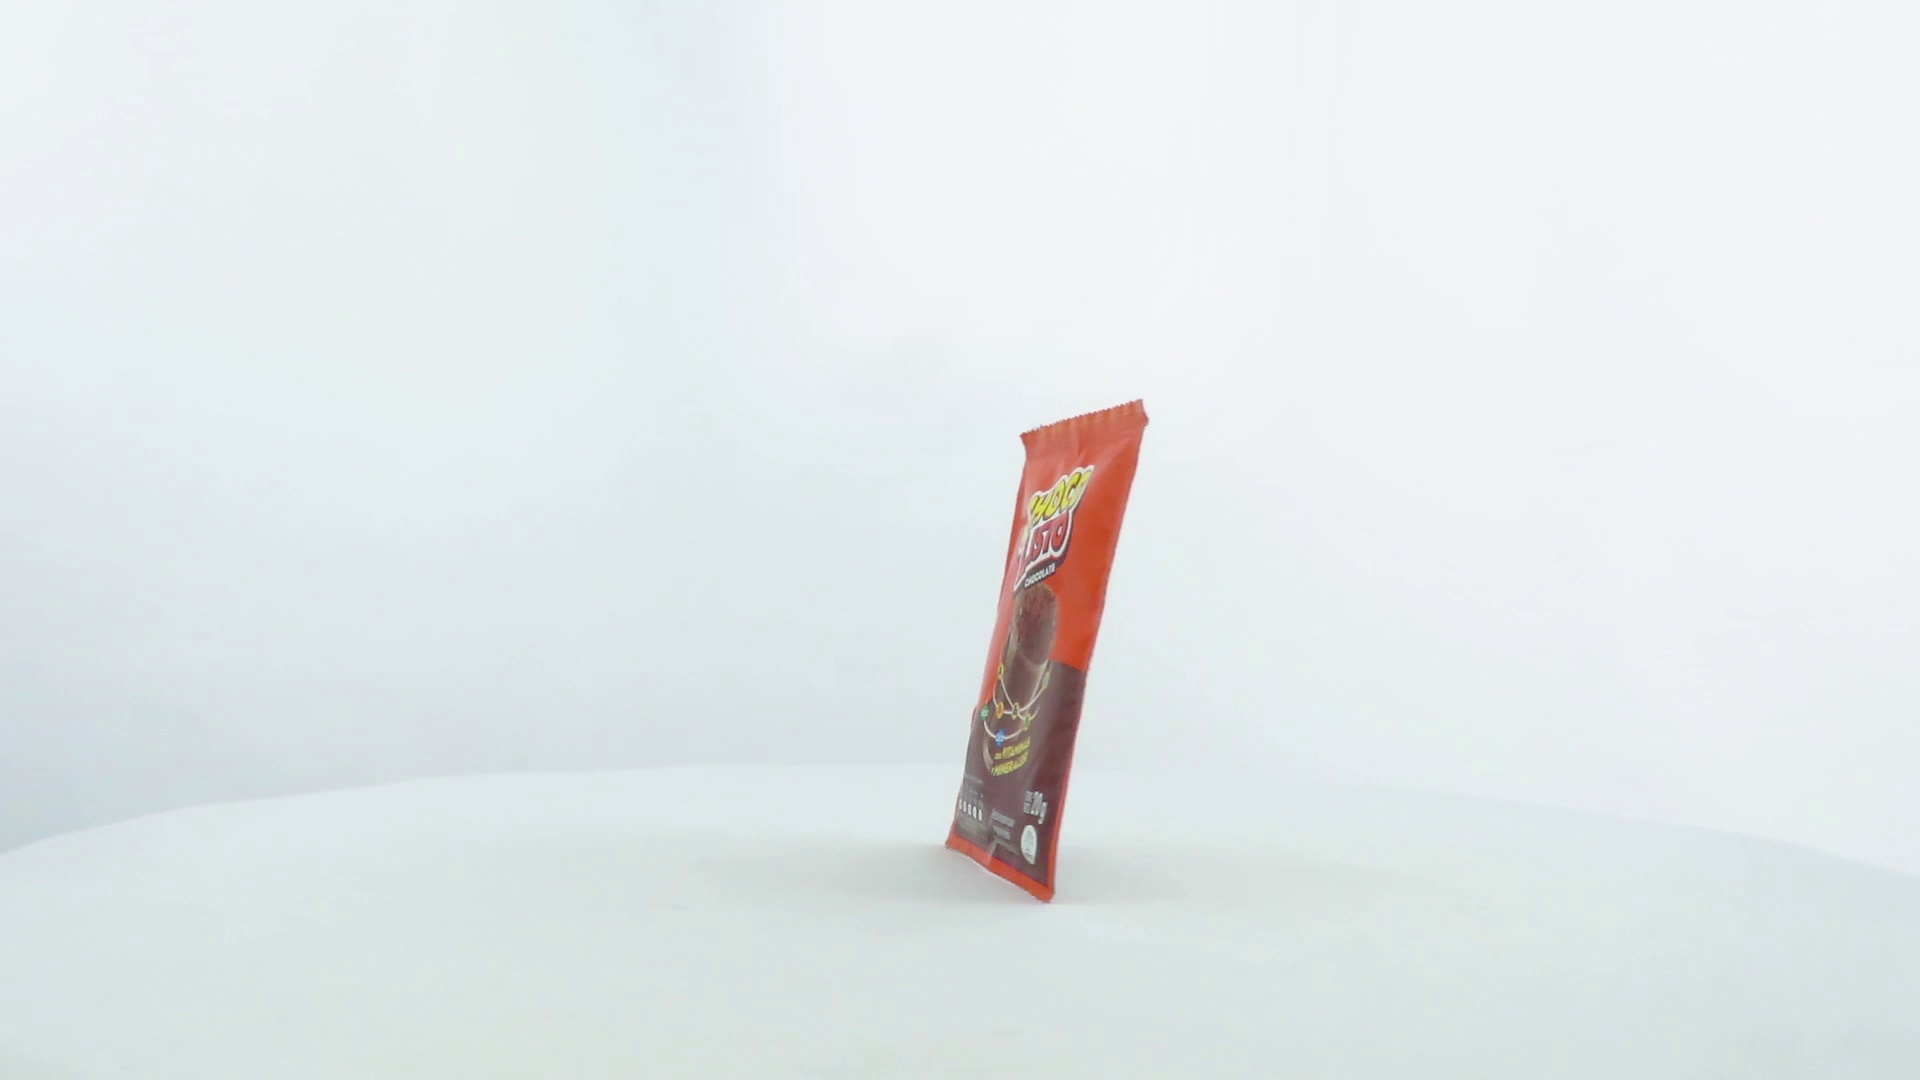COL0170103SOB02000: (794, 394, 1155, 910)
